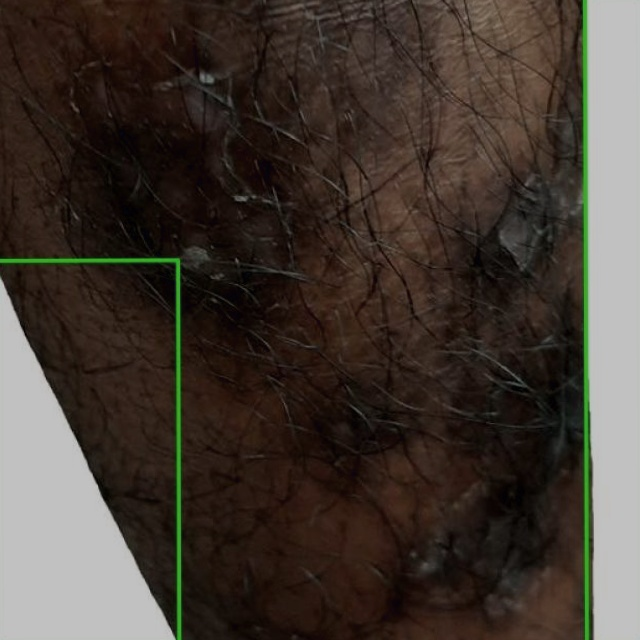Eczema: (0, 260, 179, 639), (585, 0, 639, 639)
